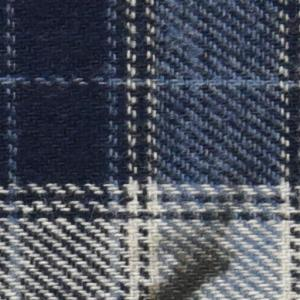Stain: (137, 200, 242, 300)
